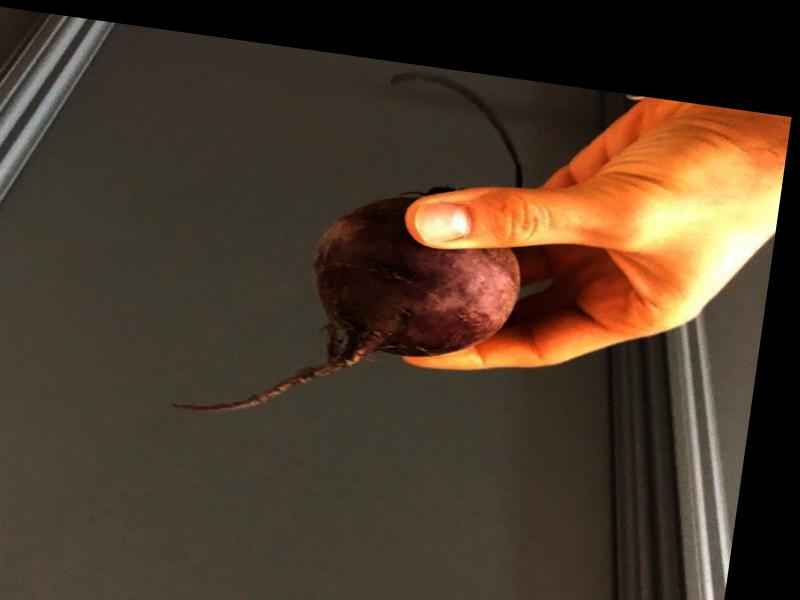Beet: (167, 44, 546, 452)
